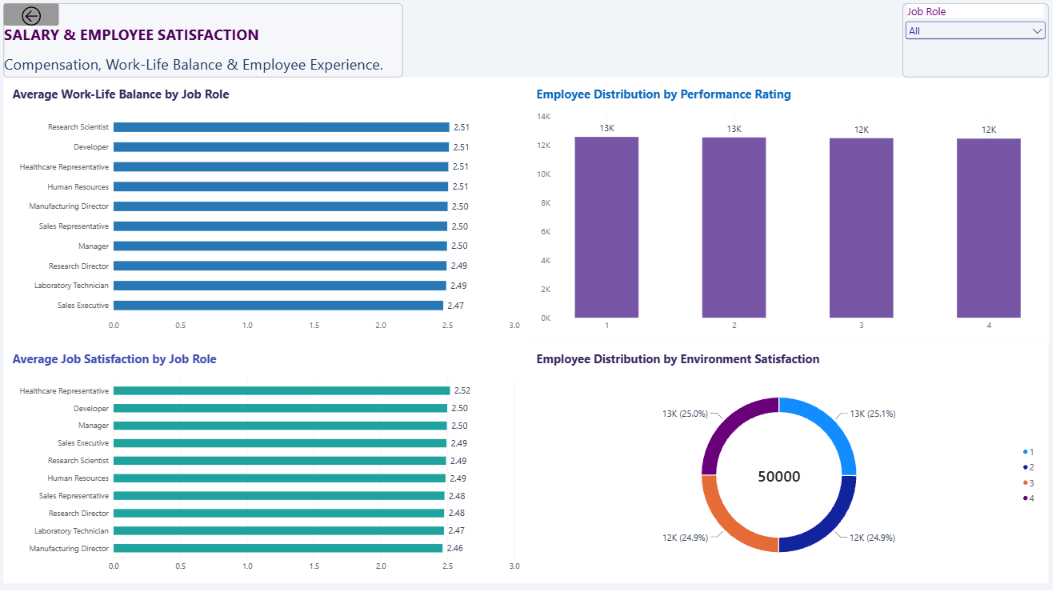

The page's visual inventory and layout, read from the dashboard file:
{"tool":"powerbi","page":{"name":"Salary&Satisfication","canvas":[1920,1080],"ordinal":3},"visuals":[{"type":"textbox","box":[10.9,16.3,722.1,133.9],"z":0,"group":"g1"},{"type":"clusteredBarChart","title":"Average Work-Life Balance by Job Role","fields":{"Category":["HR_Analytics.JobRole"],"Y":["Avg(HR_Analytics.WorkLifeBalance)"]},"box":[10,150,950,480],"z":1000},{"type":"clusteredBarChart","title":"\tAverage Job Satisfaction by Job Role","fields":{"Category":["HR_Analytics.JobRole"],"Y":["Avg(HR_Analytics.JobSatisfaction)"]},"box":[10,630,950,436],"z":2000},{"type":"clusteredColumnChart","title":"Employee Distribution by Performance Rating","fields":{"Category":["HR_Analytics.PerformanceRating"],"Y":["HR_Analytics.Total Employees"]},"box":[959.1,150.2,942.8,479.6],"z":3000},{"type":"donutChart","title":"Employee Distribution by Environment Satisfaction","fields":{"Category":["HR_Analytics.EnvironmentSatisfaction"],"Y":["HR_Analytics.Total Employees"]},"box":[960,630,942,436],"z":4000},{"type":"actionButton","box":[10.9,16.3,100,40],"z":9000,"group":"g1"},{"type":"slicer","fields":{"Values":["HR_Analytics.JobRole"]},"box":[1637.7,16.3,264.2,133.9],"z":11000},{"type":"group","id":"g1","title":"Group 1","box":[10.9,16.3,722.1,133.9],"z":11001}]}

Visuals, with their boxes in screenshot pixels (x1, y1, x2, y2), scaled from the page's 1920x1080 canvas onto the 1053x590 screenshot:
textbox: x1=6, y1=9, x2=402, y2=82
"Average Work-Life Balance by Job Role" clusteredBarChart: x1=5, y1=82, x2=526, y2=344
"	Average Job Satisfaction by Job Role" clusteredBarChart: x1=5, y1=344, x2=526, y2=582
"Employee Distribution by Performance Rating" clusteredColumnChart: x1=526, y1=82, x2=1043, y2=344
"Employee Distribution by Environment Satisfaction" donutChart: x1=526, y1=344, x2=1043, y2=582
actionButton: x1=6, y1=9, x2=61, y2=31
slicer - HR_Analytics.JobRole: x1=898, y1=9, x2=1043, y2=82
"Group 1" group: x1=6, y1=9, x2=402, y2=82
